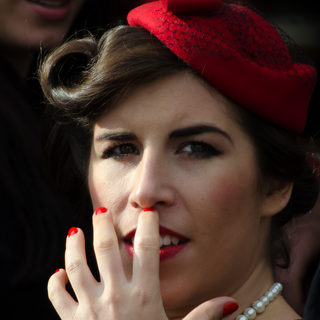eye: (174, 139, 221, 161), (100, 140, 142, 163)
